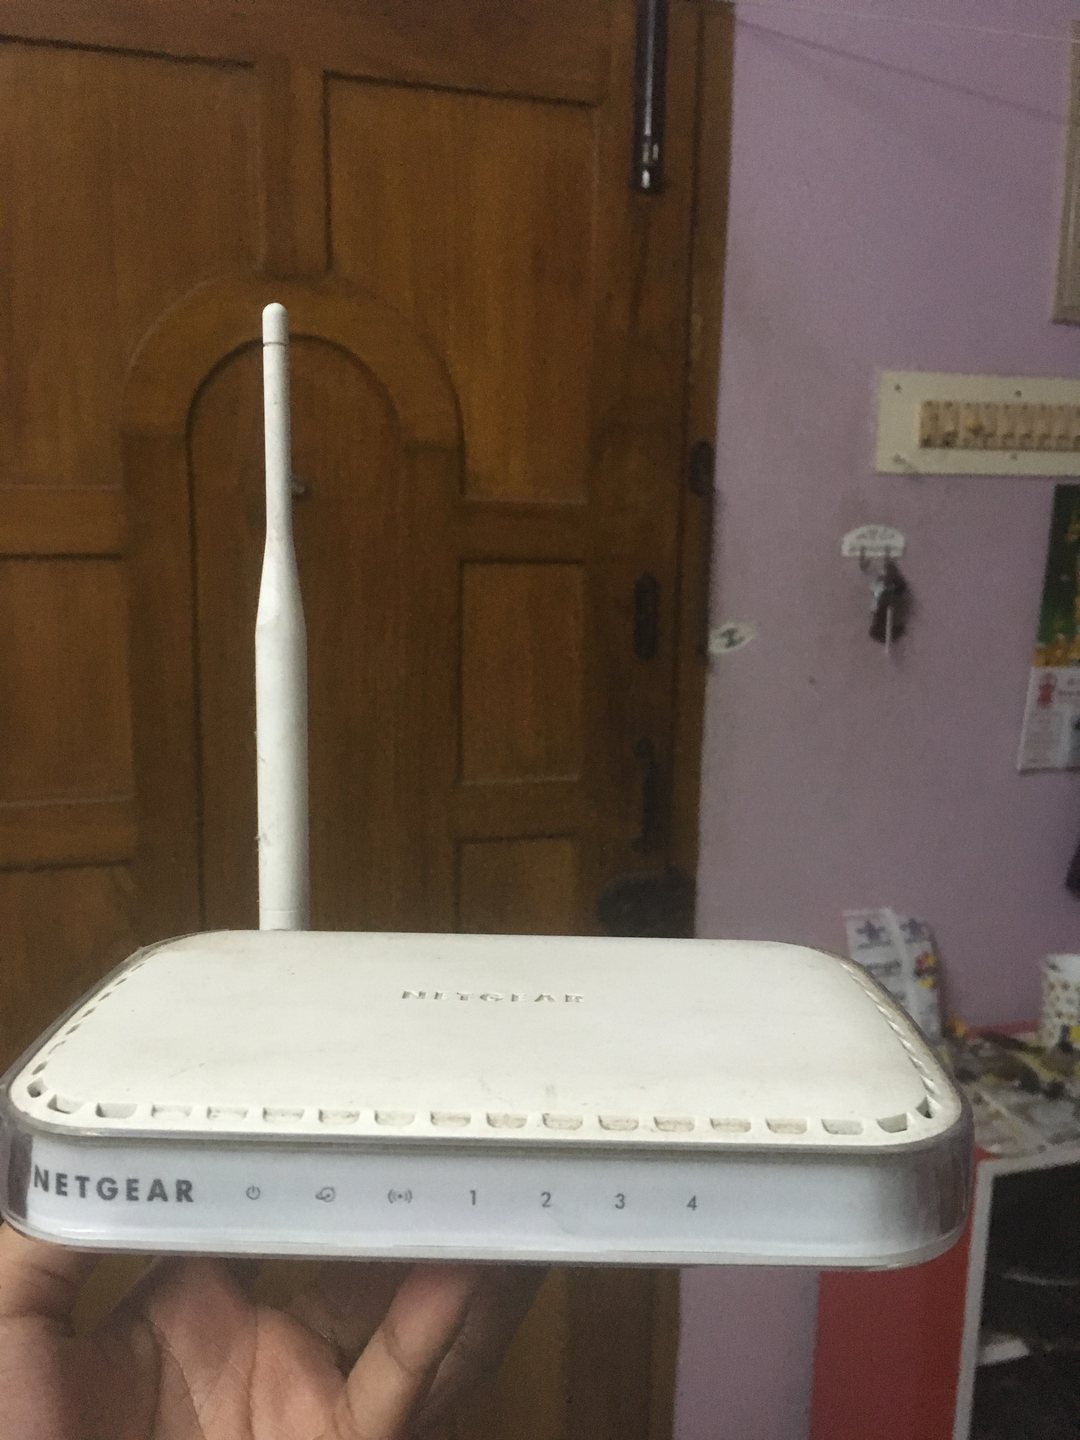NETGEAR: (25, 1159, 195, 1215)
modem: (10, 1089, 979, 1267)
